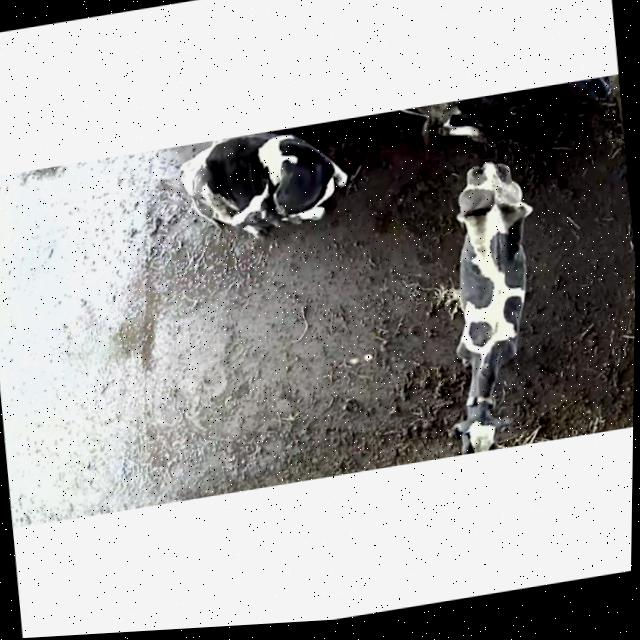lay: (171, 117, 363, 266), (369, 74, 620, 166)
